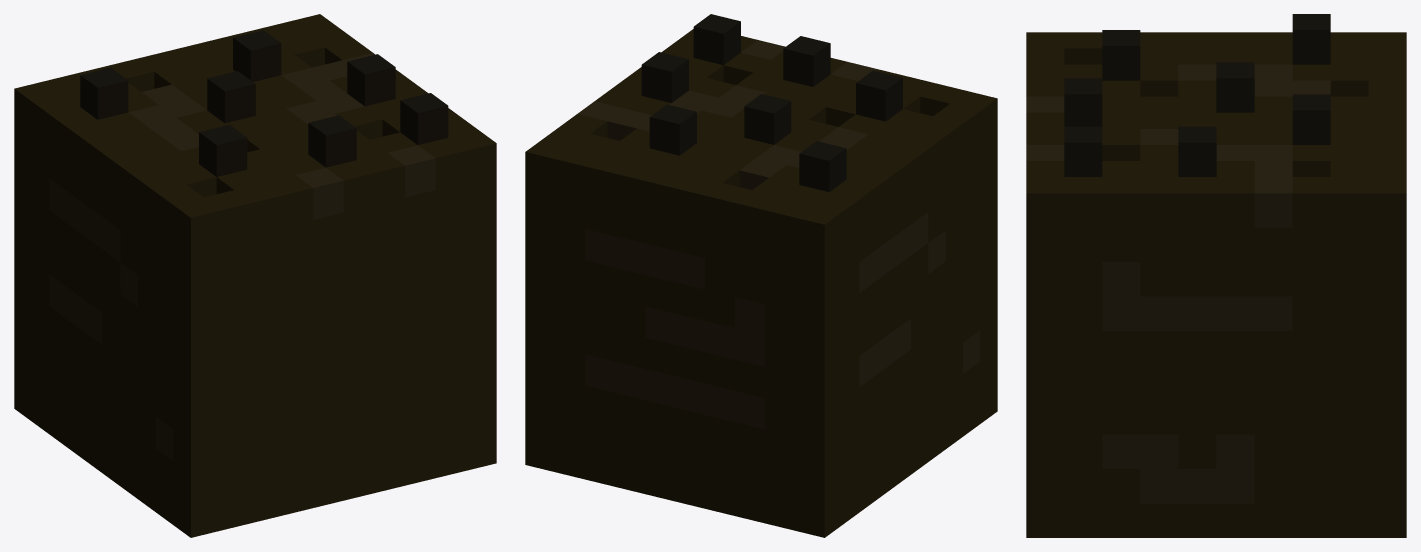
The model's file is dirt block.obj.
3 renders of one model, left to right at view 1: azimuth 30°, elevation 25°; view 2: azimuth 150°, elevation 25°; view 3: azimuth 270°, elevation 25°, orthographic. The views are drawn at different scales.
Size of the model in its own units: 1 by 1.1 by 1.
Materials: 1 (1 with a texture image).
